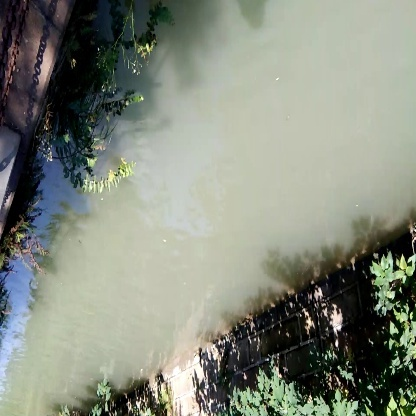grass: (51, 130, 137, 201)
